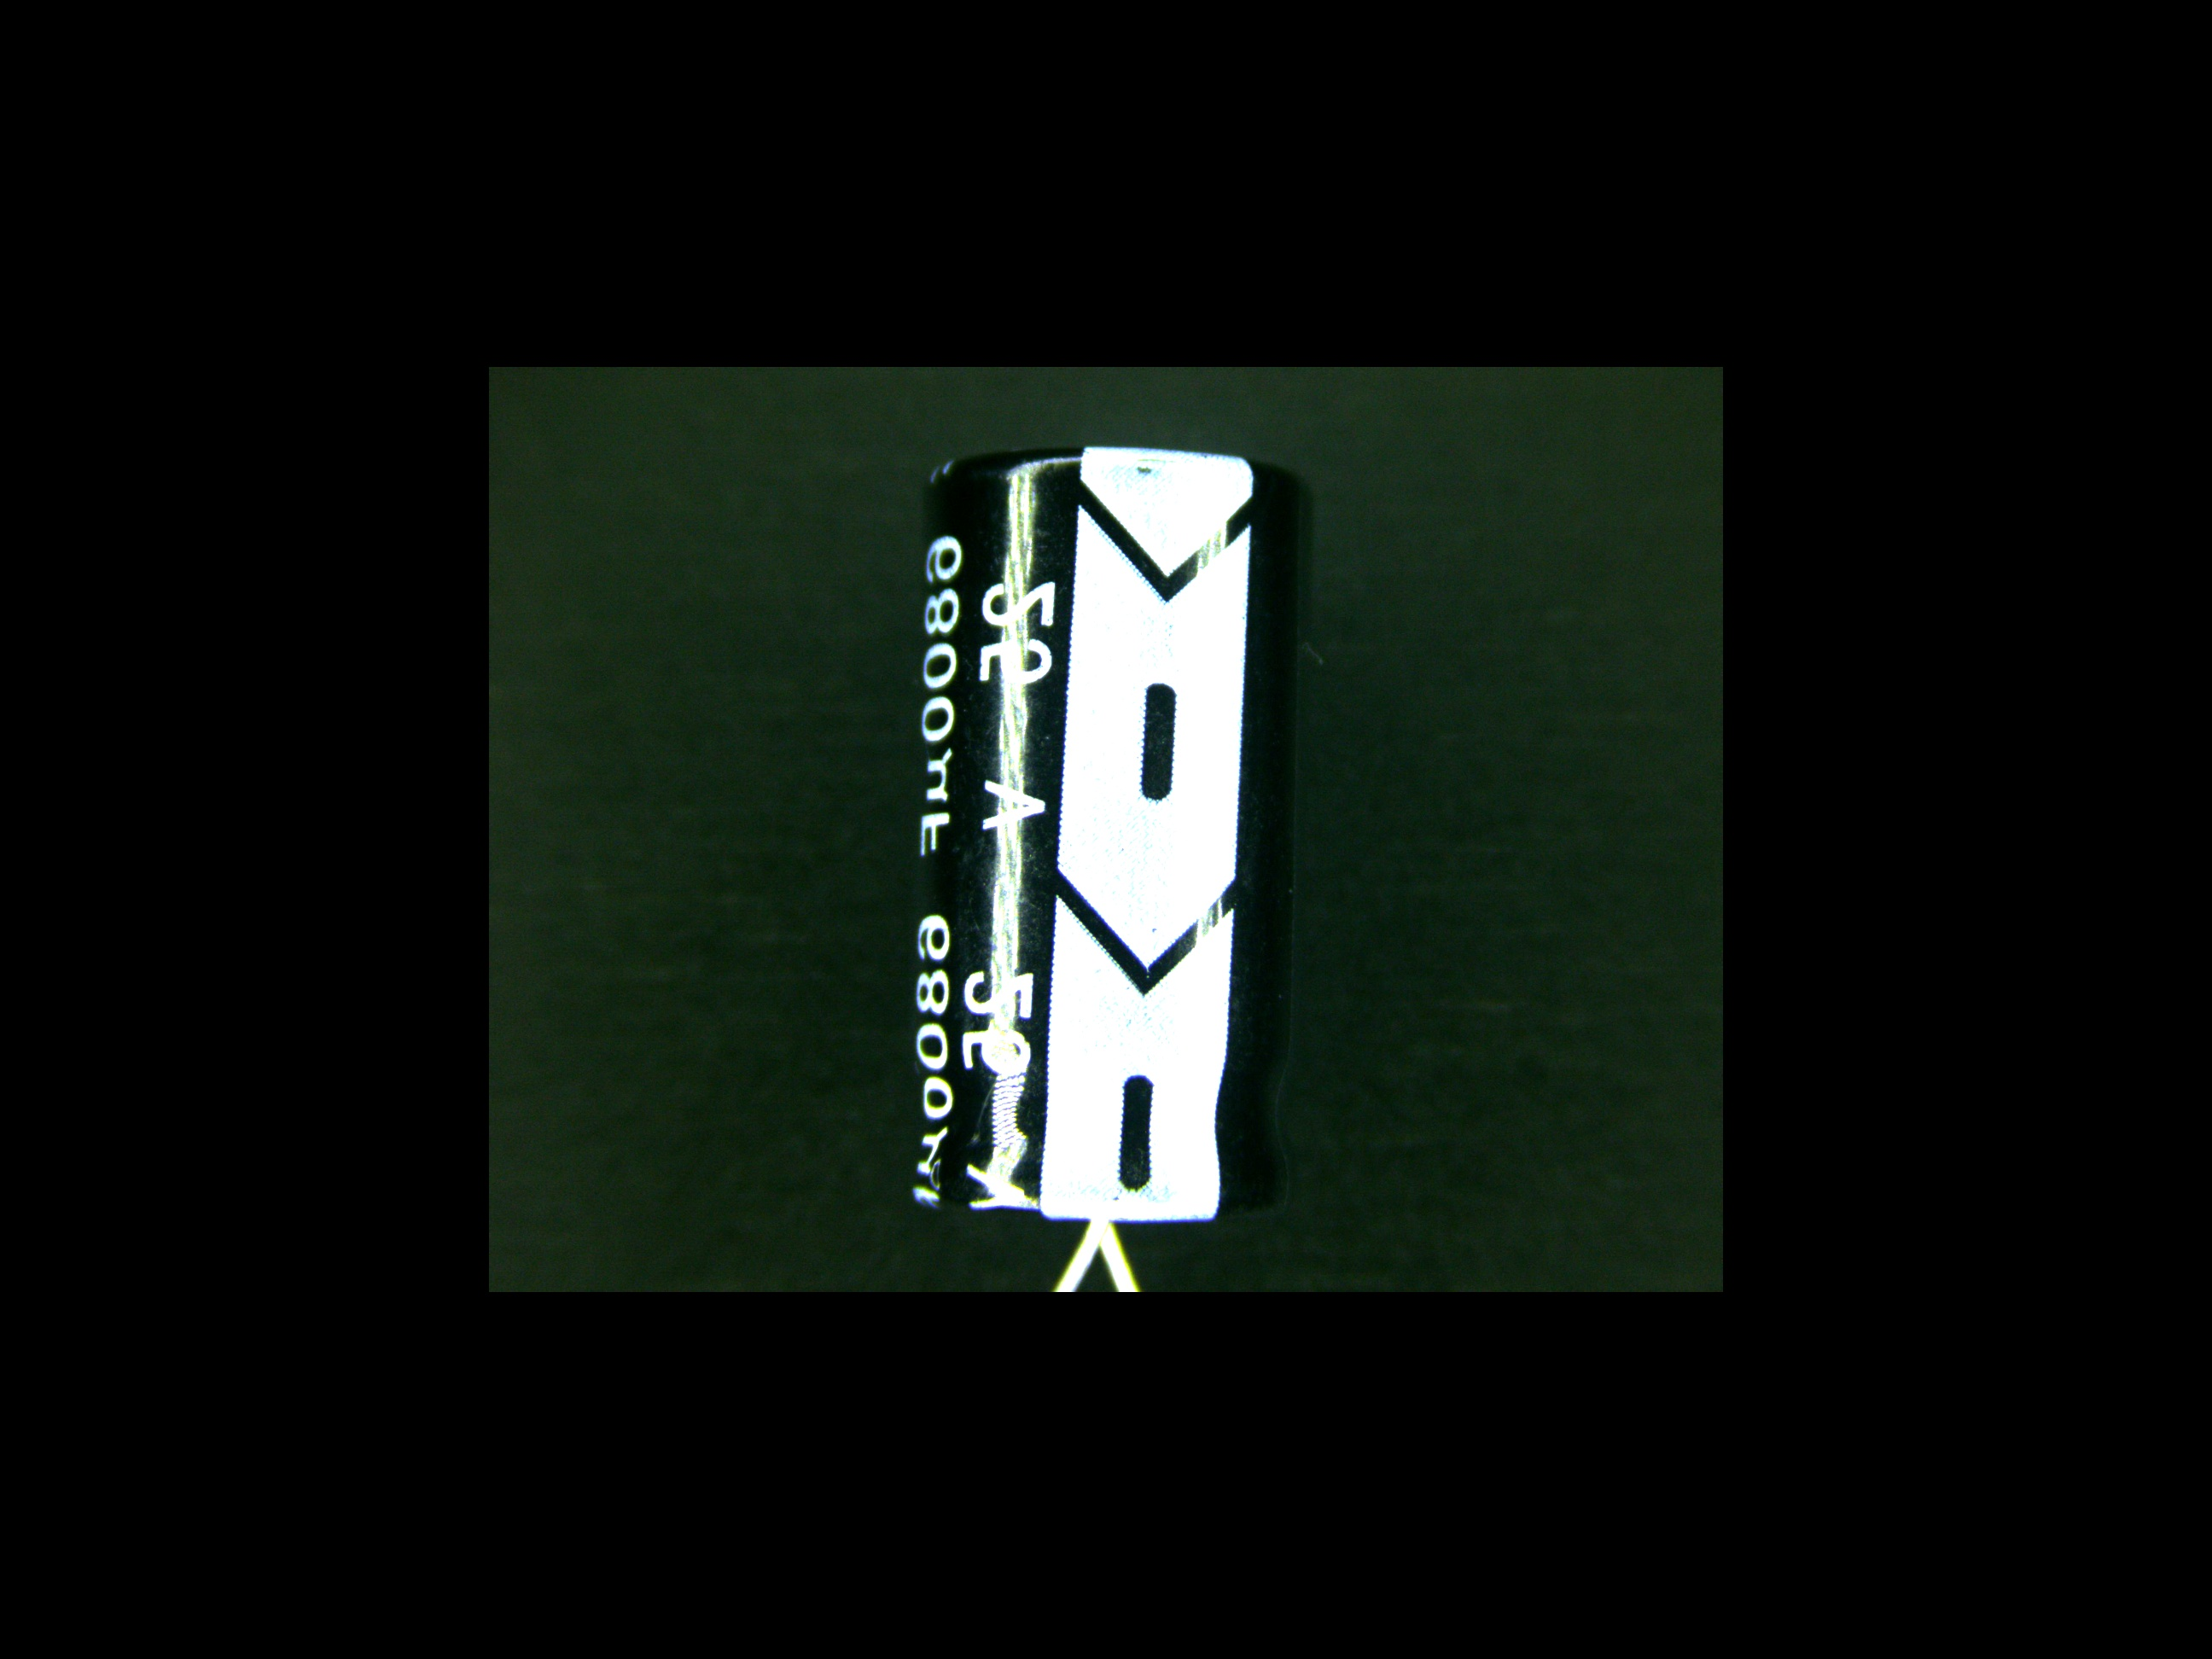c3: (904, 446, 1306, 1265)
